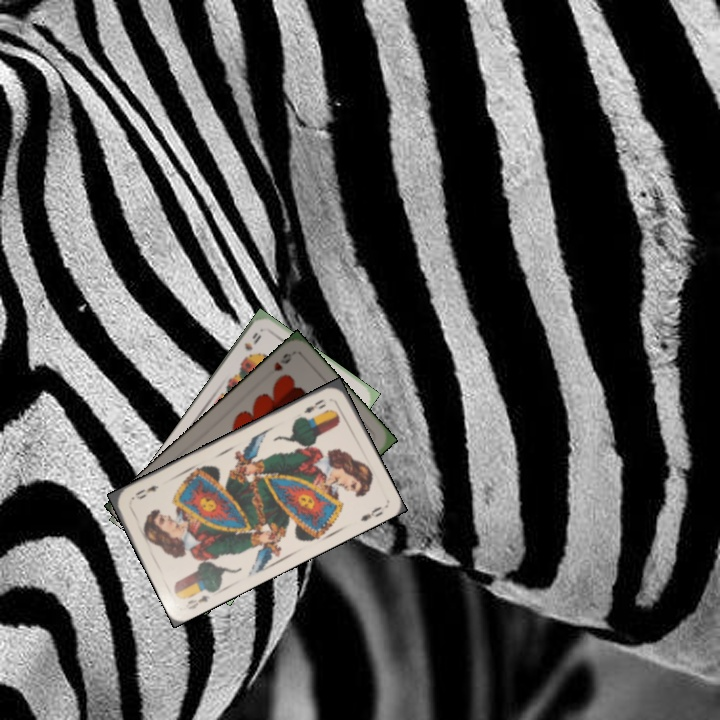EO: (181, 591, 213, 612), (300, 395, 328, 416)
H9: (270, 349, 294, 374)
S9: (239, 328, 264, 364)
